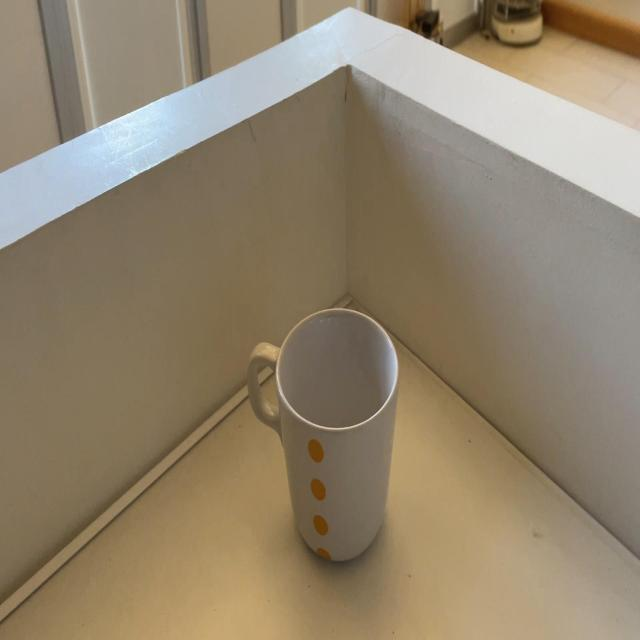cup: (244, 309, 400, 563)
